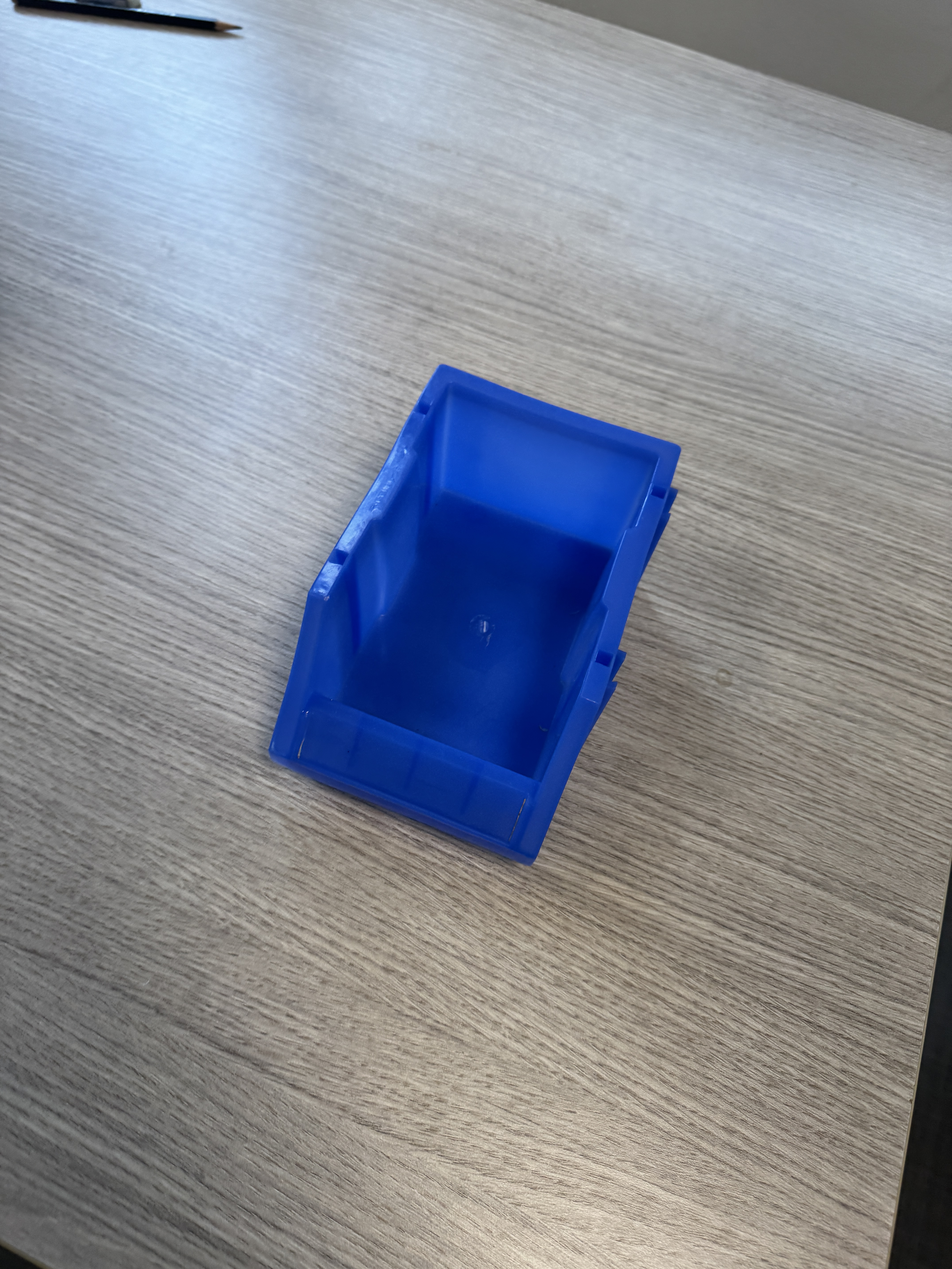Bin Boundary: (296, 374, 660, 786)
